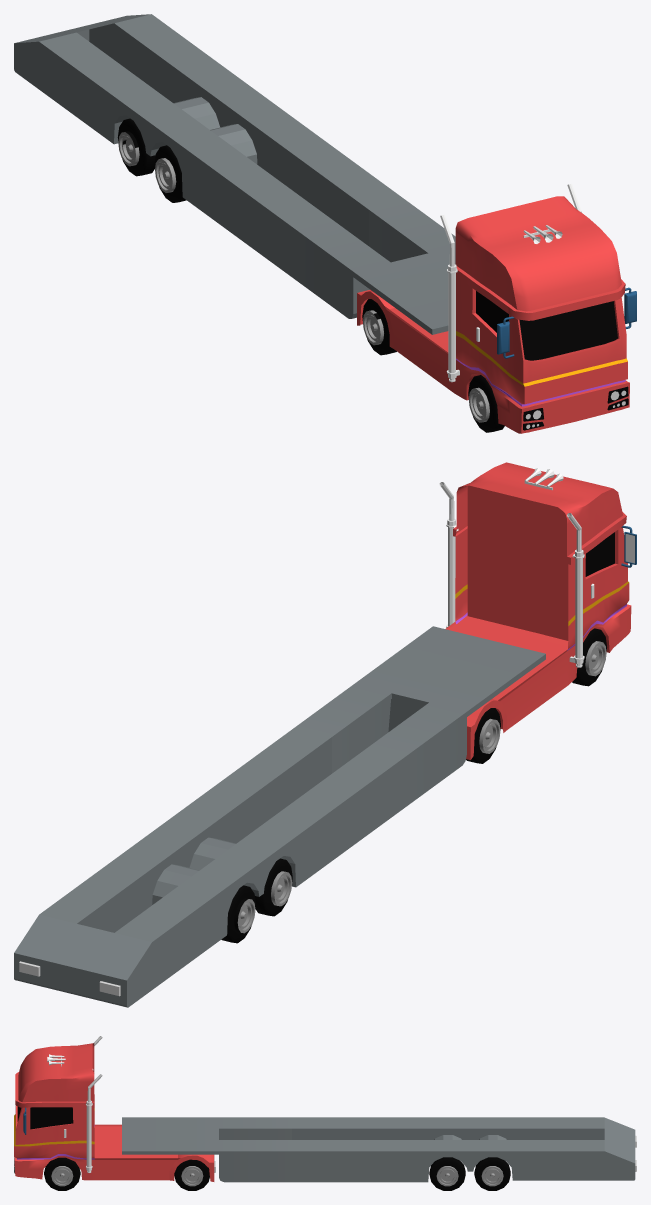
The model's file is truck.fbx.
3 renders of one model, top to bottom at view 1: azimuth 30°, elevation 25°; view 2: azimuth 150°, elevation 25°; view 3: azimuth 270°, elevation 25°, orthographic. The views are drawn at different scales.
Parts seen in each view (by area): view 1: TIR .001; view 2: TIR .001; view 3: TIR .001.
Boxes of the visible parts, x1=… form: TIR .001: x1=14, y1=14, x2=636, y2=433; TIR .001: x1=14, y1=462, x2=636, y2=1007; TIR .001: x1=14, y1=1036, x2=636, y2=1190.
Size of the model in its own units: 115 by 156 by 732.
